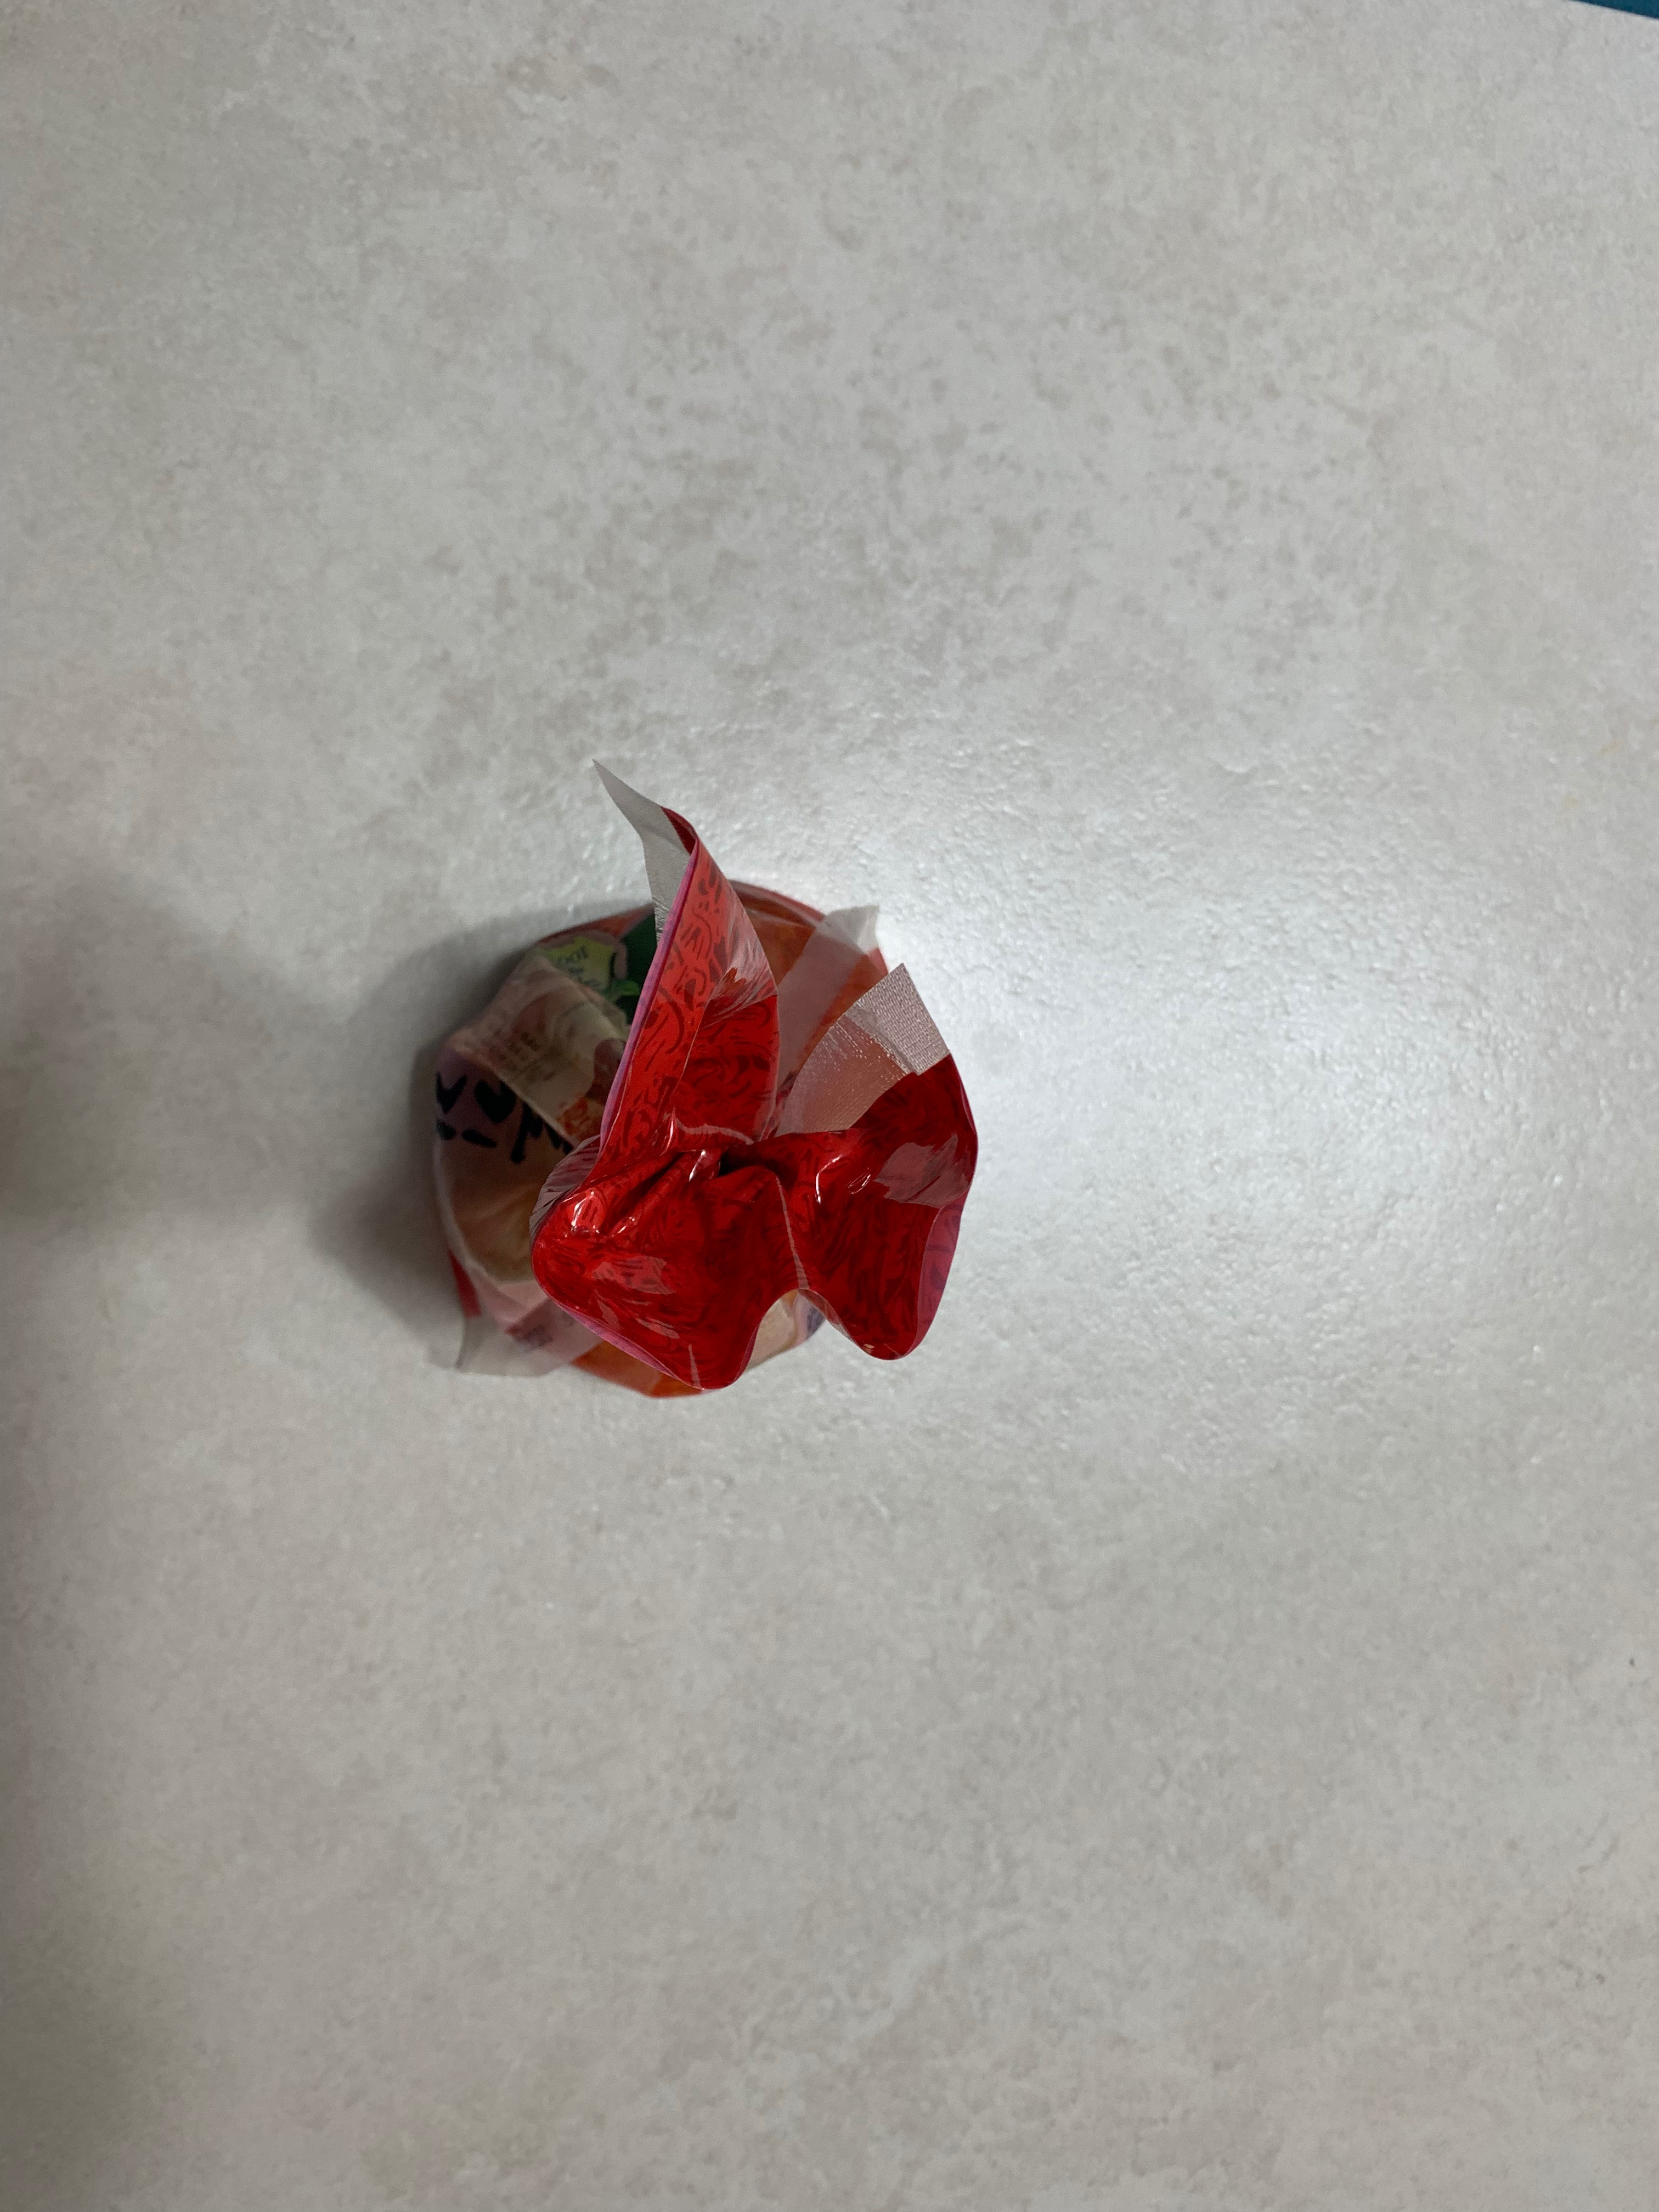kimchi: (429, 763, 978, 1400)
